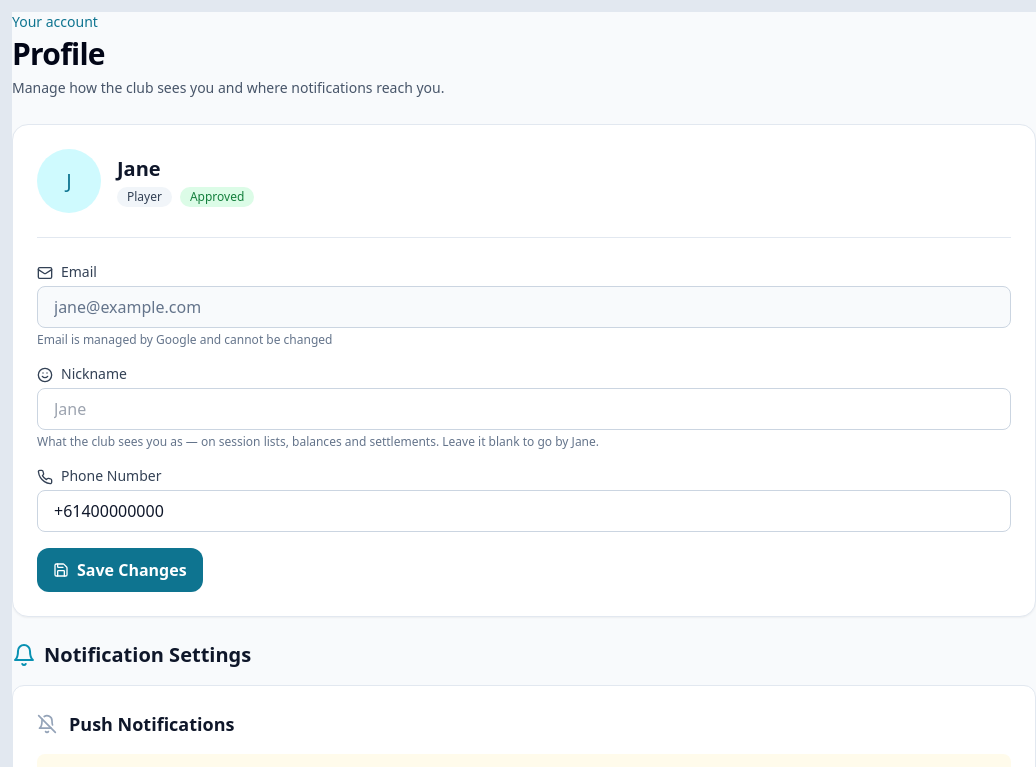
Test: Profile page › reports a failed save instead of claiming success
The width and height of the screenshot is (1036, 767).
Click the button "Save Changes": x=120, y=570 [37, 548, 203, 592]
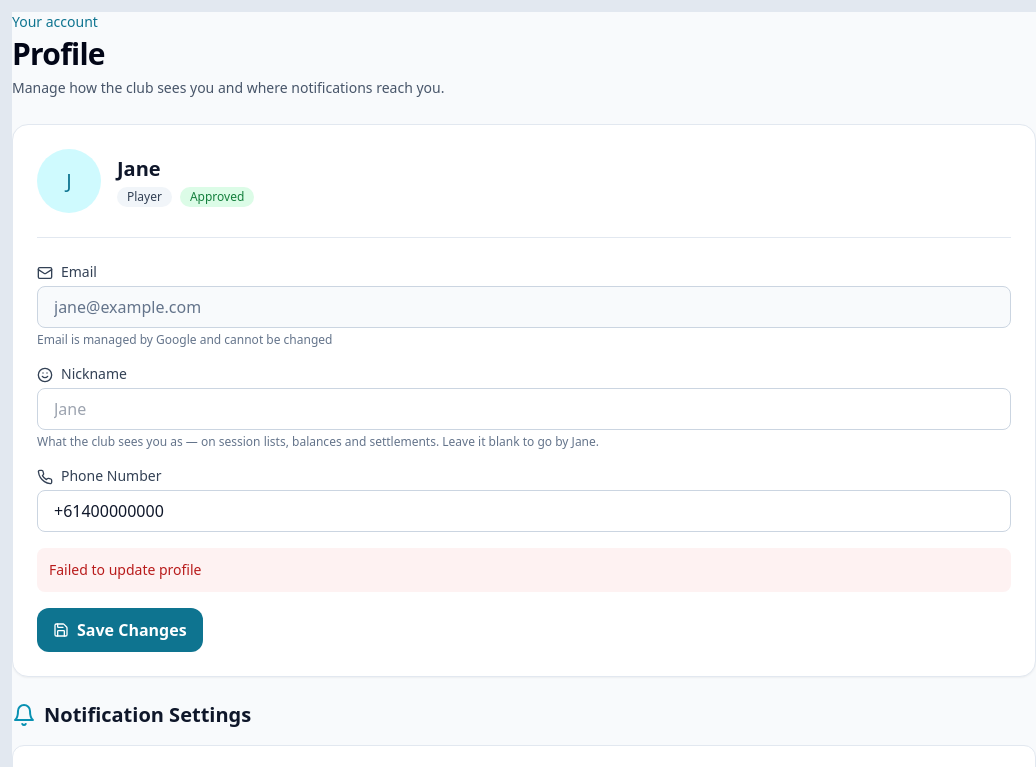
Check: the text "Failed to update profile" is shown, box [37, 548, 1011, 592]
